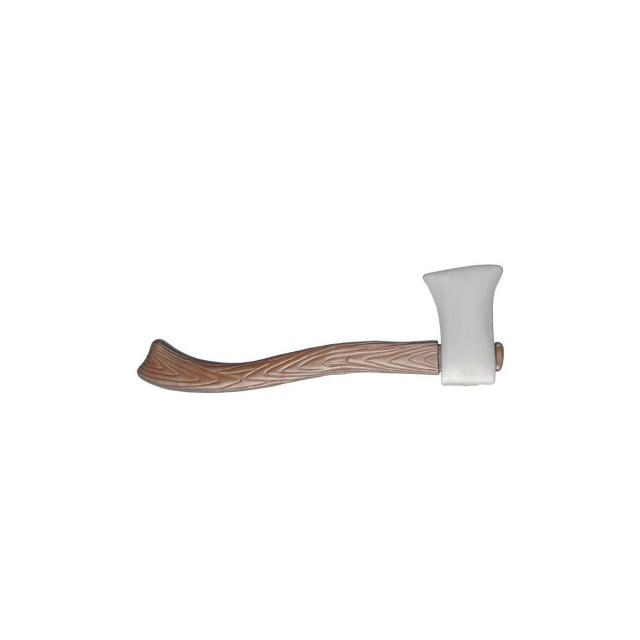Kapak: (103, 265, 552, 414)
